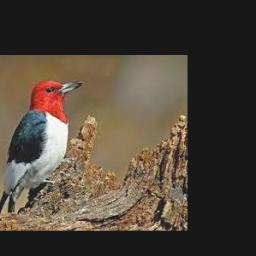Woodpecker: (0, 80, 82, 216)
